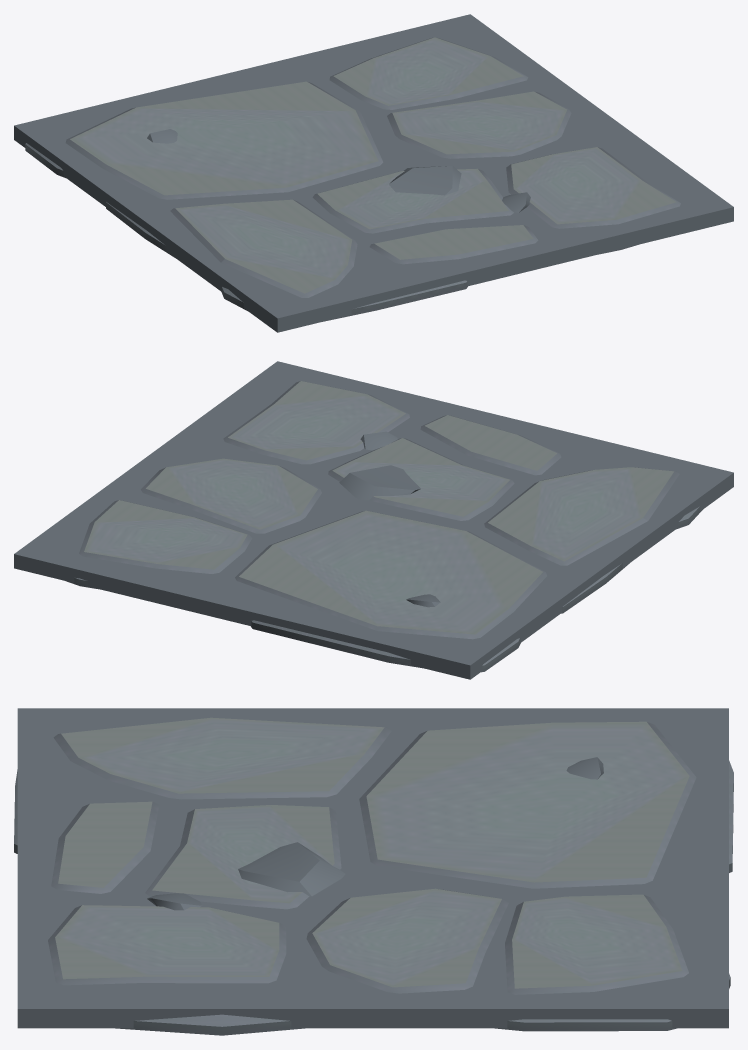
3 views of the same model, one above another, from view 1: azimuth 30°, elevation 25°; view 2: azimuth 150°, elevation 25°; view 3: azimuth 270°, elevation 25° (orthographic). The views are drawn at different scales.
Visible parts, largest first — view 1: floor_dirt_small_A; view 2: floor_dirt_small_A; view 3: floor_dirt_small_A.
Part boxes in pixels (box(x1,y1,x2,y2)): floor_dirt_small_A: box(14, 14, 733, 332); floor_dirt_small_A: box(14, 361, 733, 679); floor_dirt_small_A: box(14, 708, 733, 1035).
Size of the model in its own units: 4.12 by 0.1955 by 4.05.
4 materials, 4 textured.
